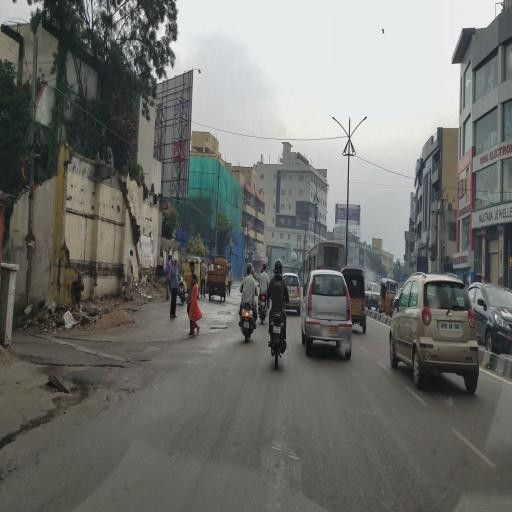street_light_0: (347, 110, 370, 144), (326, 107, 348, 141)
